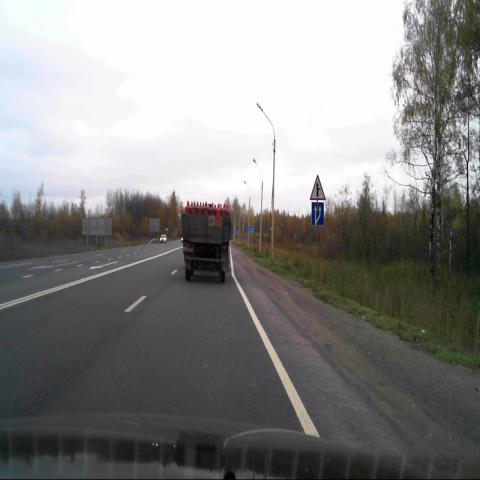5_15_3: (311, 202, 324, 225)
